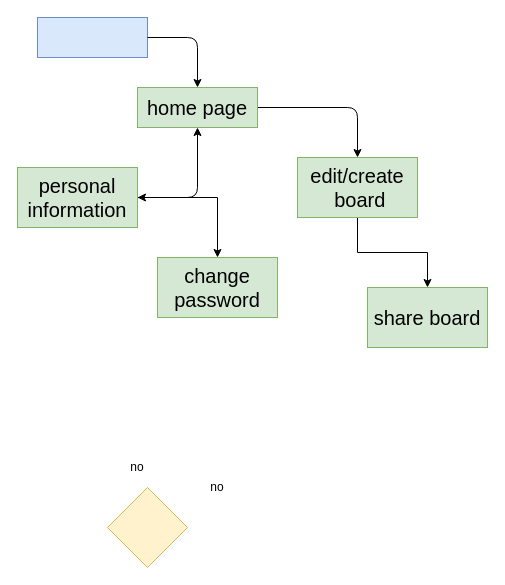
This 505x585 diagram has some shape labels left out. Each missing label, with the centre of its shape:
"logged in succesfuly" belongs at [147,527].
"login/signup" belongs at [92,37].
